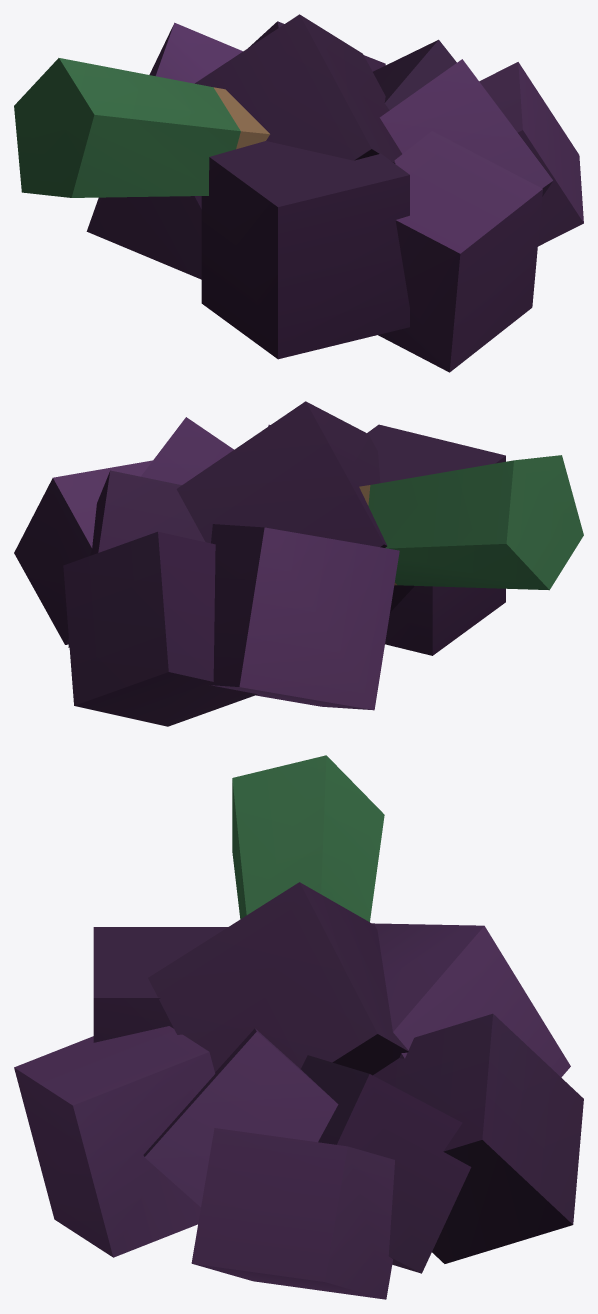
Rendered from custom-cacho-jucara.glb.
3 renders of one model, top to bottom at view 1: azimuth 30°, elevation 25°; view 2: azimuth 150°, elevation 25°; view 3: azimuth 270°, elevation 25°, orthographic. The views are drawn at different scales.
Visible parts, largest first — view 1: cacho-jucara; view 2: cacho-jucara; view 3: cacho-jucara.
Boxes of the visible parts, x1,y1,x2,y2 form: cacho-jucara: (14,14,583,372); cacho-jucara: (14,401,583,726); cacho-jucara: (14,755,583,1299).
Bounding box in the file's own units: 0.9268 × 0.4961 × 0.7443.
